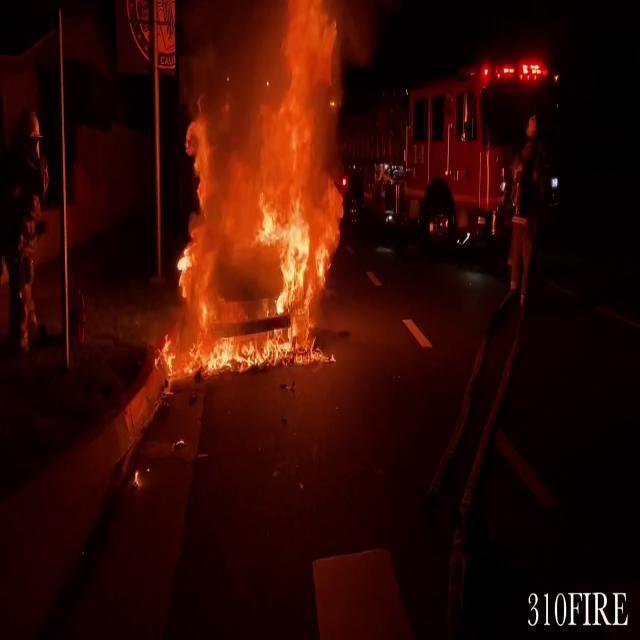Fire: (157, 1, 361, 376)
